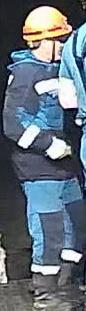helmet: (21, 5, 72, 41), (75, 0, 85, 10)
vest: (1, 50, 69, 173)
